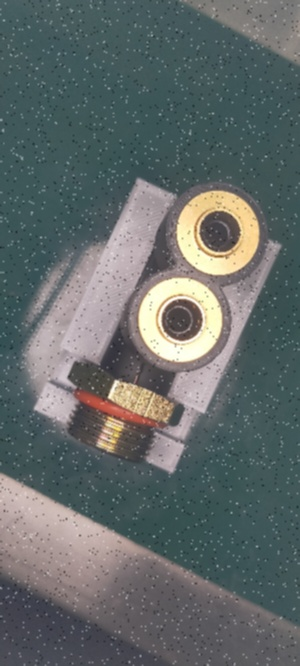craze: (135, 359, 146, 388)
